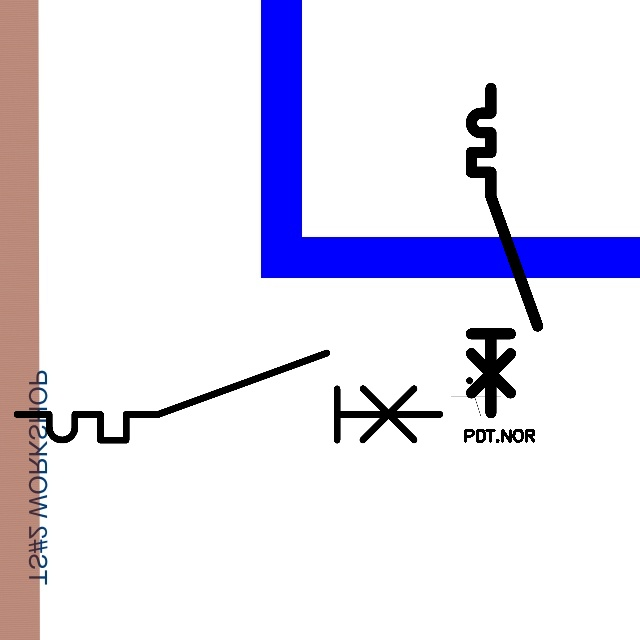interruptor_termomagnetico: (6, 342, 450, 451), (463, 80, 546, 421)
